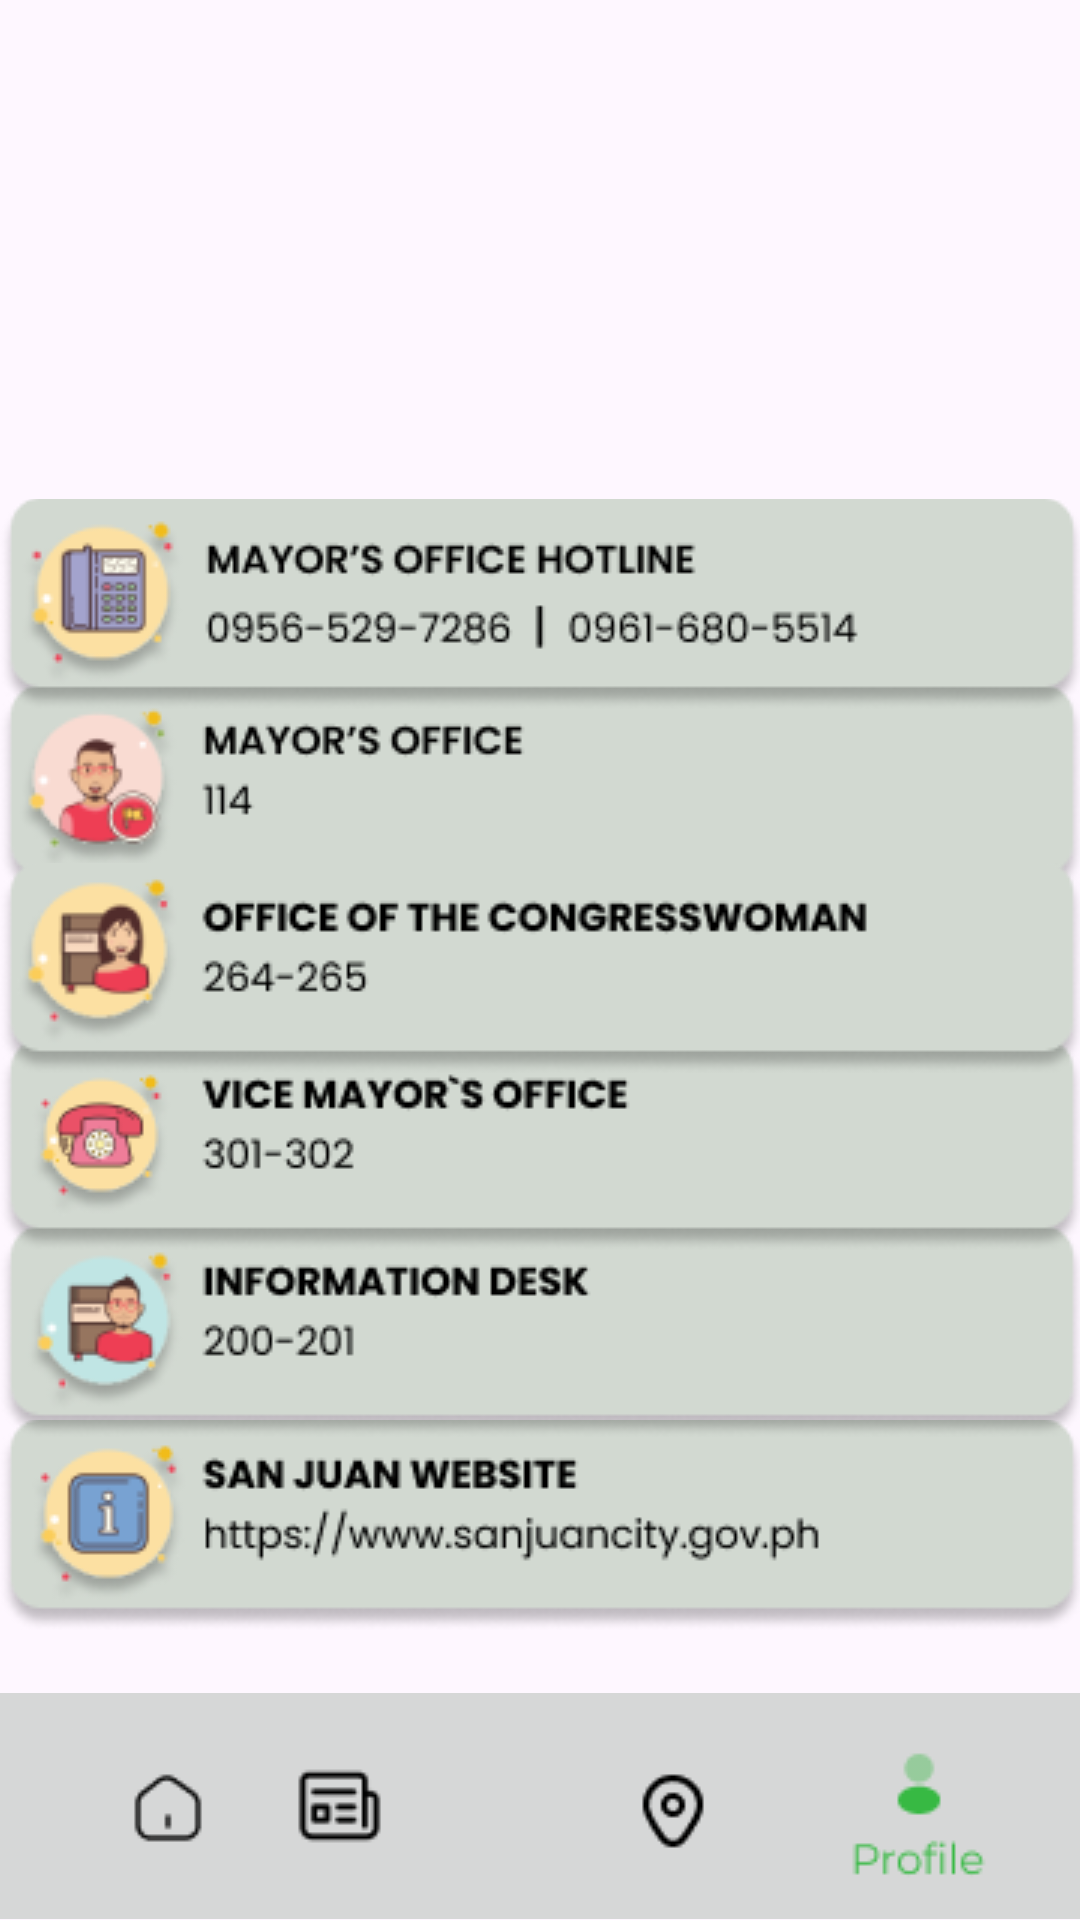

Point at icon controls on the screen. Image size 1080×1920, points as [x,y].
bulletin: [339,1806]
home: [168,1808]
map: [673,1811]
